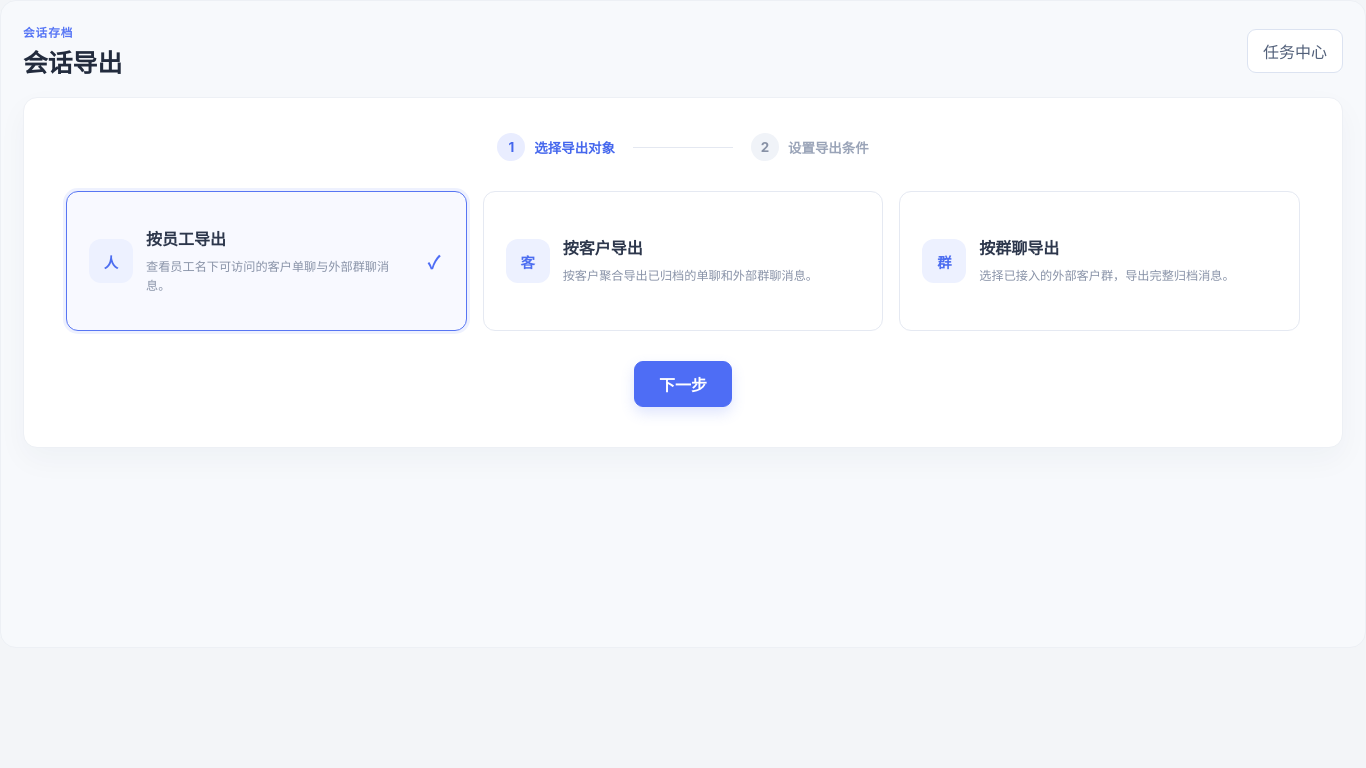
Test case: ConversationExportPage › uses the approved two-step flow and queries candidates only after entering step two
Expected: the heading "会话导出" is shown, [23, 43, 122, 79]
Expected: the button "人 按员工导出 查看员工名下可访问的客户单聊与外部群聊消息。 ✓" is shown, [66, 191, 467, 331]
Click the button "客 按客户导出 按客户聚合导出已归档的单聊和外部群聊消息。" at (528, 261), box [483, 191, 883, 331]
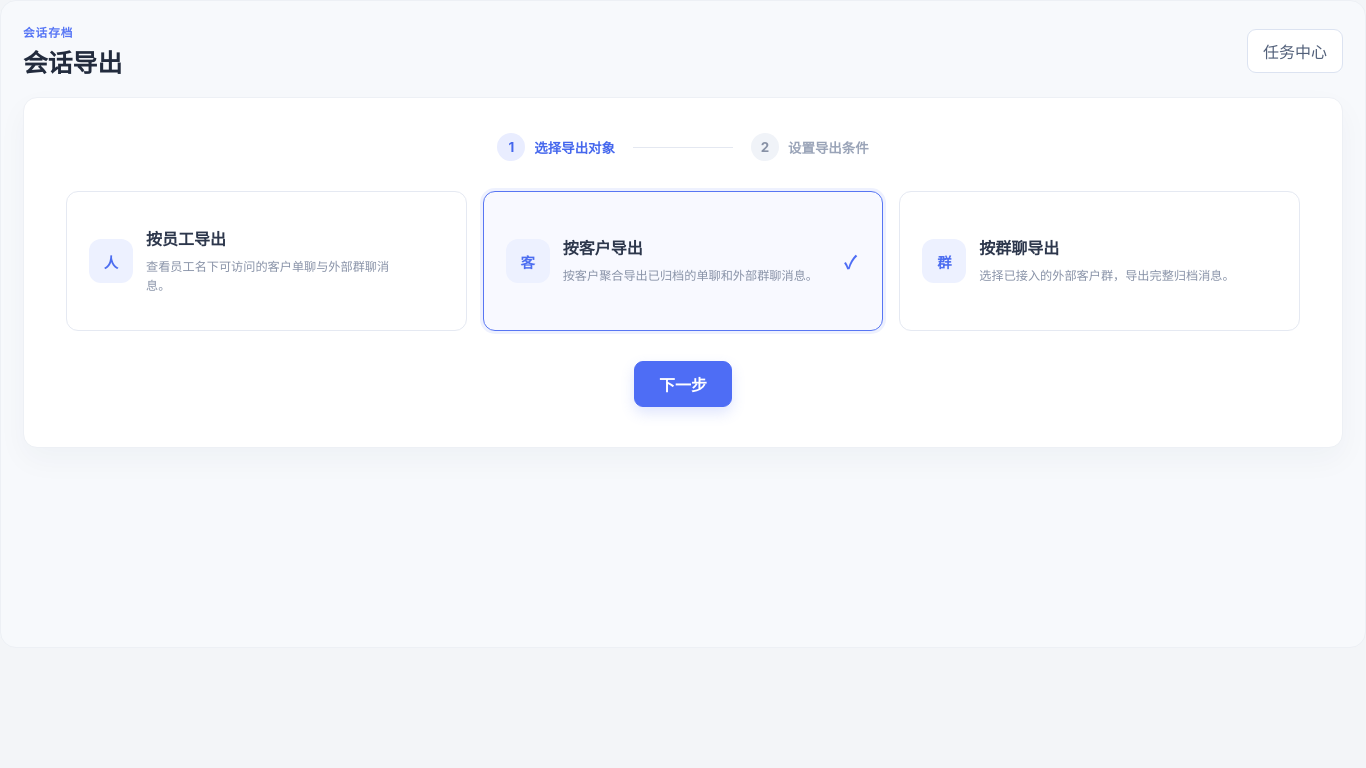
Click the button "下一步" at (683, 384), box [634, 361, 732, 407]
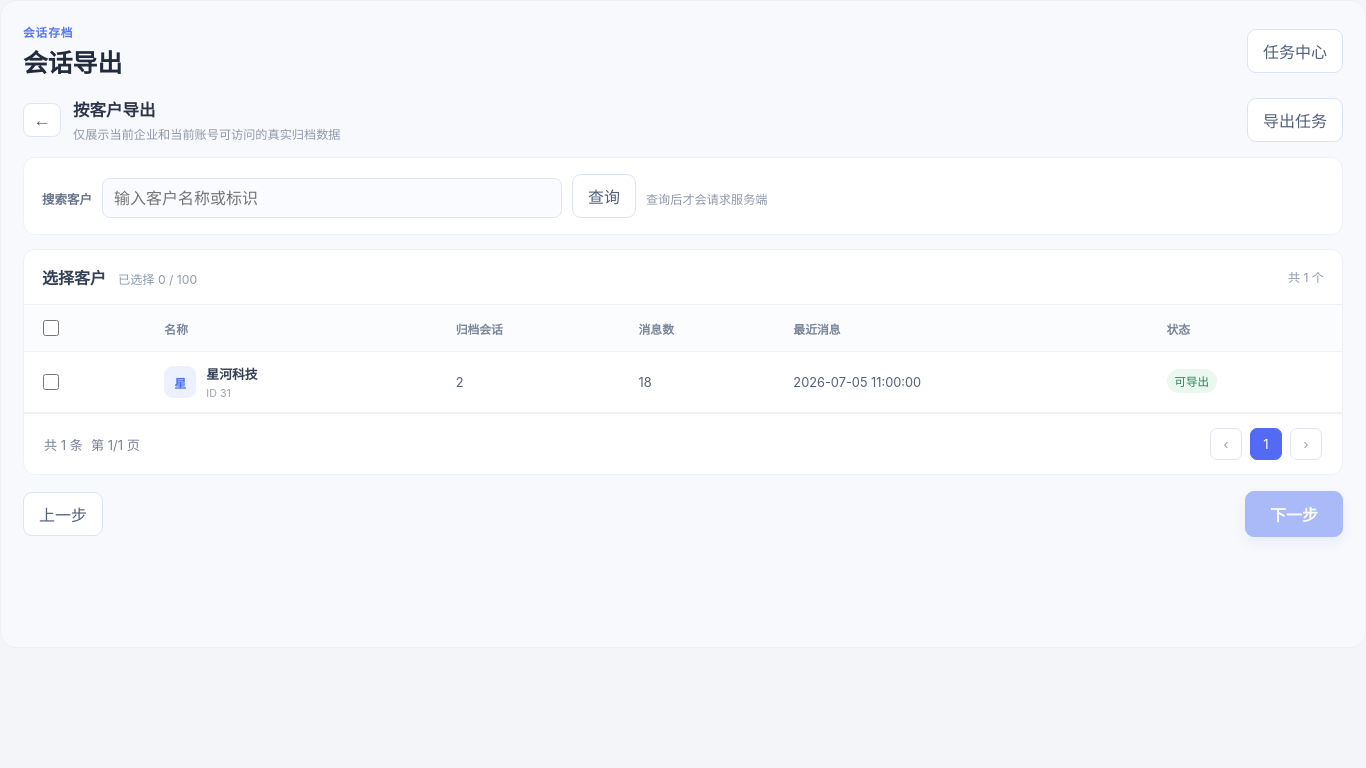
Expected: the text "星河科技" is shown, [206, 364, 258, 383]
